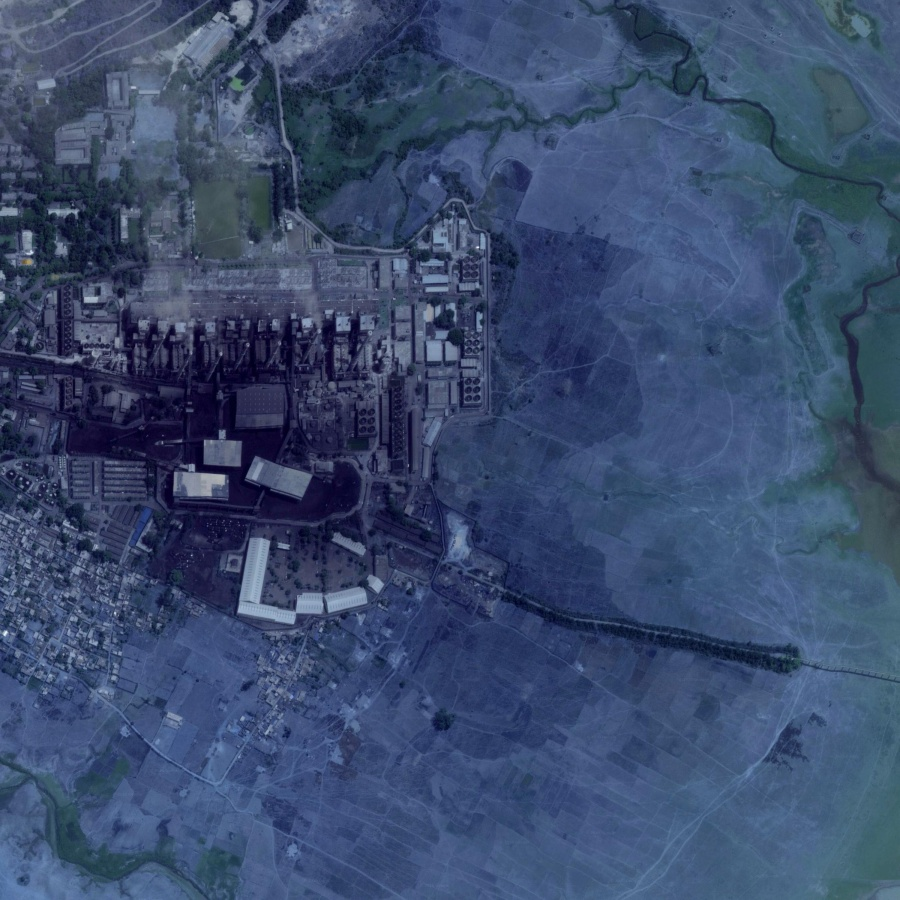PowerPlant: (68, 180, 491, 530)
